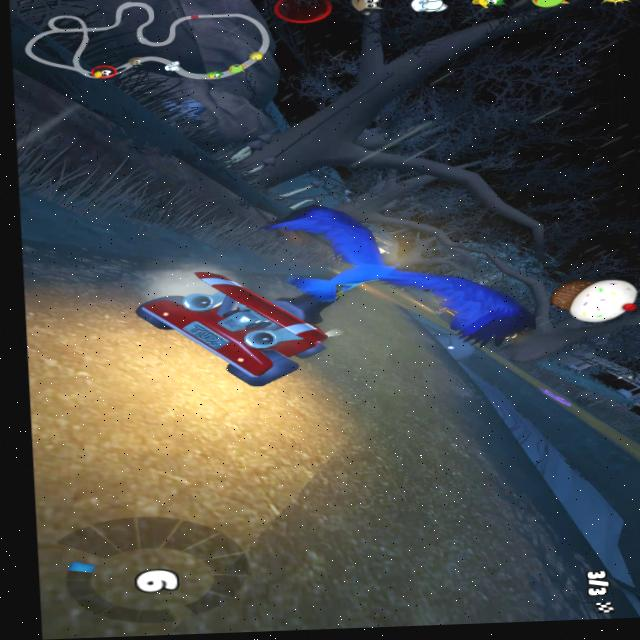player_kart: (131, 261, 350, 409)
